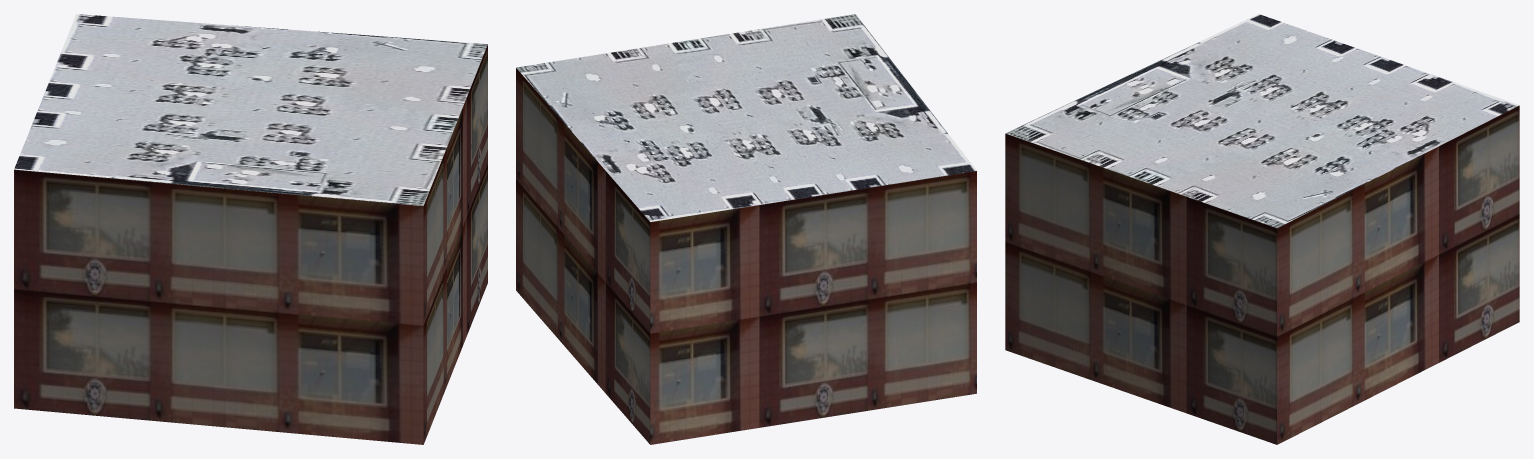
File: ResTex__1173.fbx
The picture shows the model from 3 angles, left to right: view 1: azimuth 30°, elevation 25°; view 2: azimuth 150°, elevation 25°; view 3: azimuth 270°, elevation 25°; orthographic projection. The views are drawn at different scales.
Parts seen in each view (by area): view 1: CityEngineMaterial_13_m, CityEngineMaterial_8_m; view 2: CityEngineMaterial_13_m, CityEngineMaterial_8_m; view 3: CityEngineMaterial_13_m, CityEngineMaterial_8_m.
Part boxes in pixels (left/top/right/bottom): CityEngineMaterial_13_m: left=14, top=44, right=487, bottom=444; CityEngineMaterial_8_m: left=14, top=14, right=487, bottom=205; CityEngineMaterial_13_m: left=516, top=68, right=976, bottom=444; CityEngineMaterial_8_m: left=516, top=14, right=976, bottom=221; CityEngineMaterial_13_m: left=1005, top=105, right=1519, bottom=444; CityEngineMaterial_8_m: left=1005, top=14, right=1519, bottom=227.
Size of the model in its own units: 12.72 by 6 by 12.91.
Materials: 2 (2 with a texture image).
